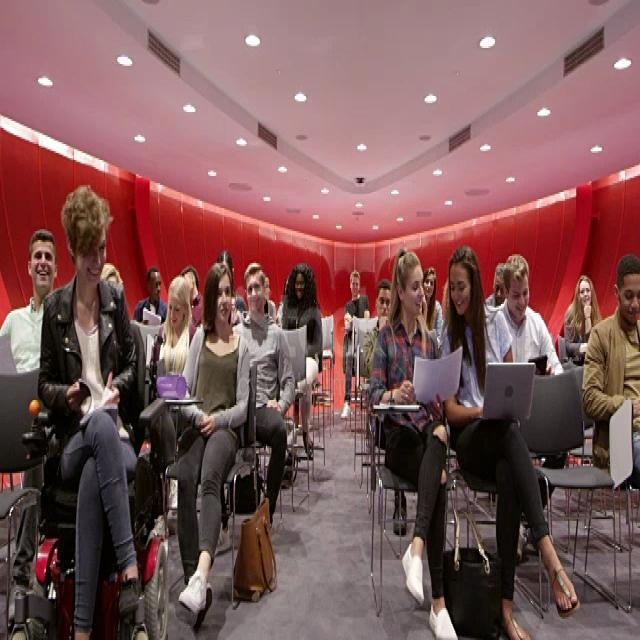Looking away: (619, 274, 640, 324), (450, 263, 470, 314), (404, 266, 424, 315), (510, 274, 530, 320), (168, 292, 184, 328), (148, 270, 162, 304), (493, 271, 506, 306)
Looking forward: (80, 228, 107, 283), (32, 239, 54, 293), (216, 272, 232, 325), (246, 272, 264, 312), (376, 287, 392, 322), (579, 280, 592, 308), (424, 272, 436, 300), (294, 272, 306, 300), (351, 276, 360, 298)
